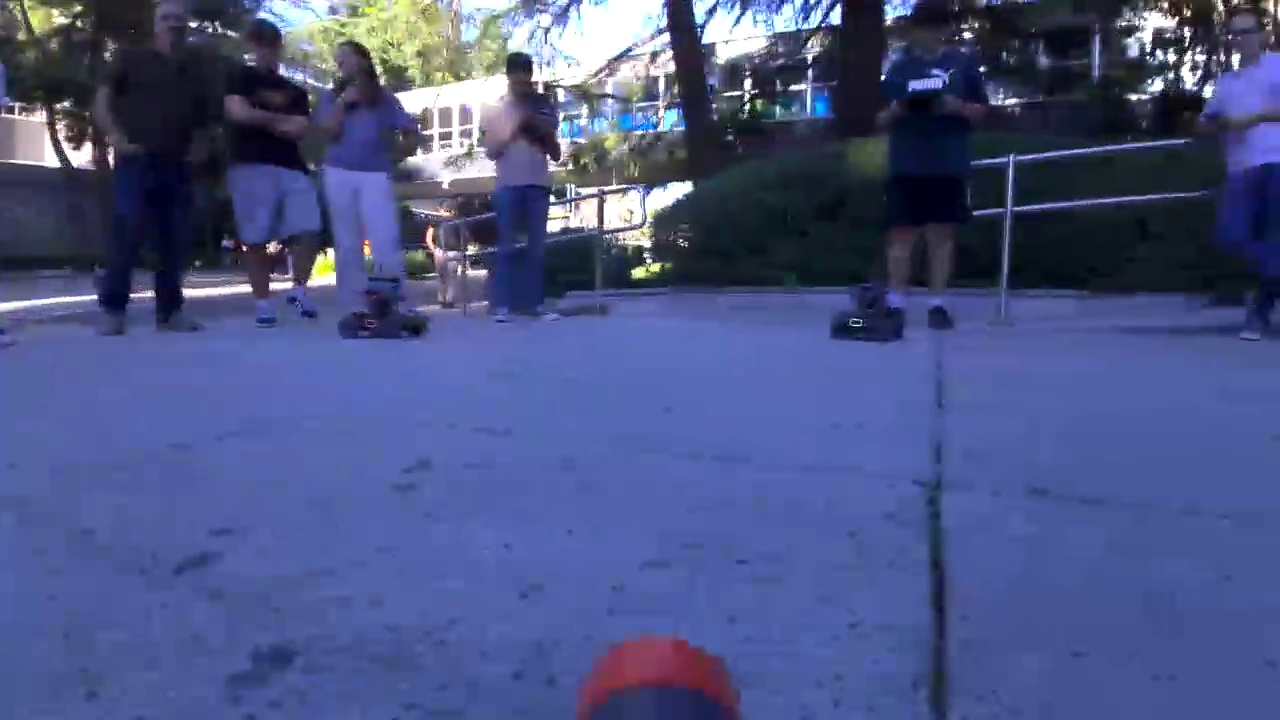robot: (335, 273, 429, 347), (829, 280, 907, 355)
